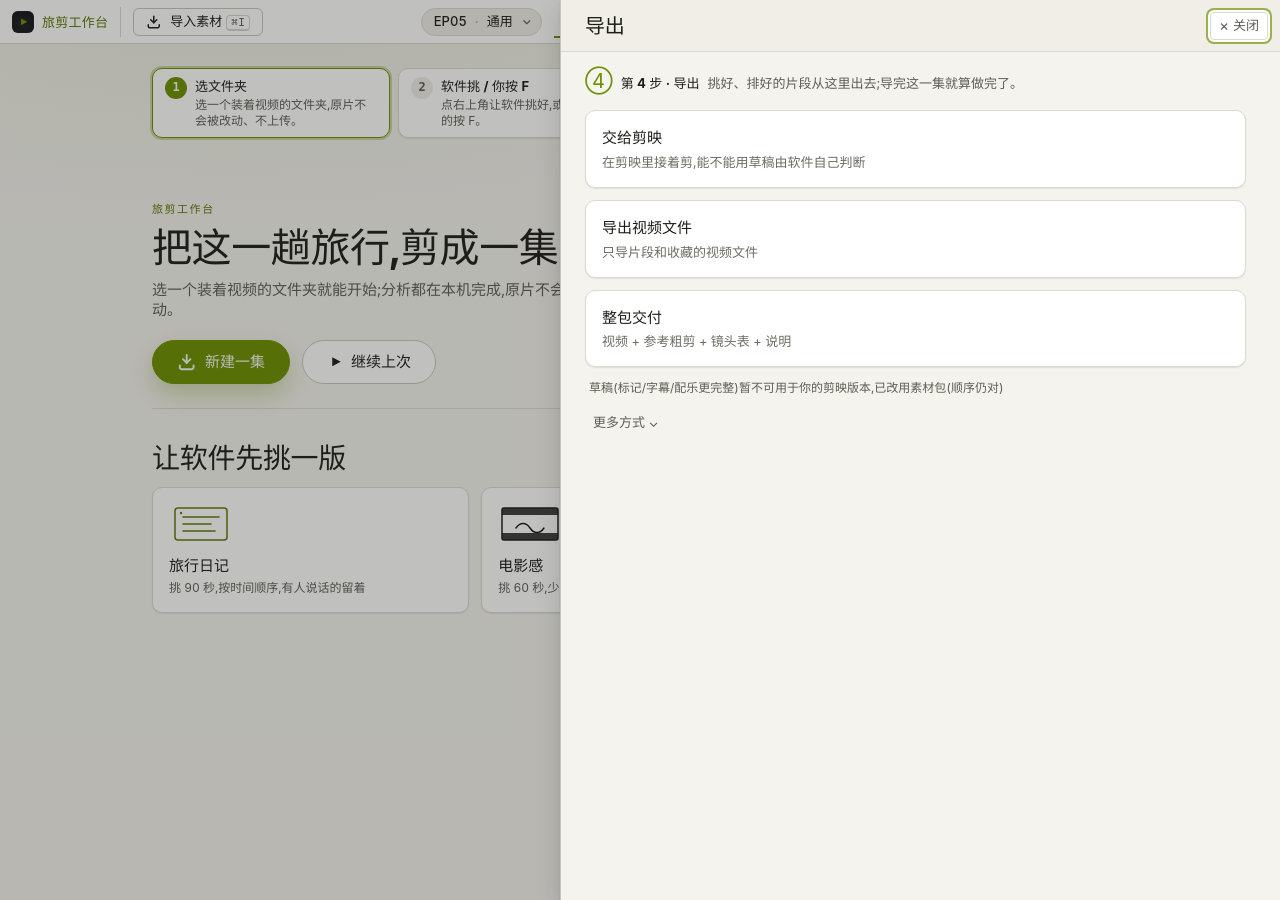
it: 交付抽屉 · 剪映素材包(R14 §9 B) › V14-03 待验证版本:切到「剪映草稿」后顶行一句话「先导出素材包,或试着生成」,不再说「先用完整交付包」
Click the button "更多方式 ⌄".
click(626, 422)  # box [585,409,667,435]
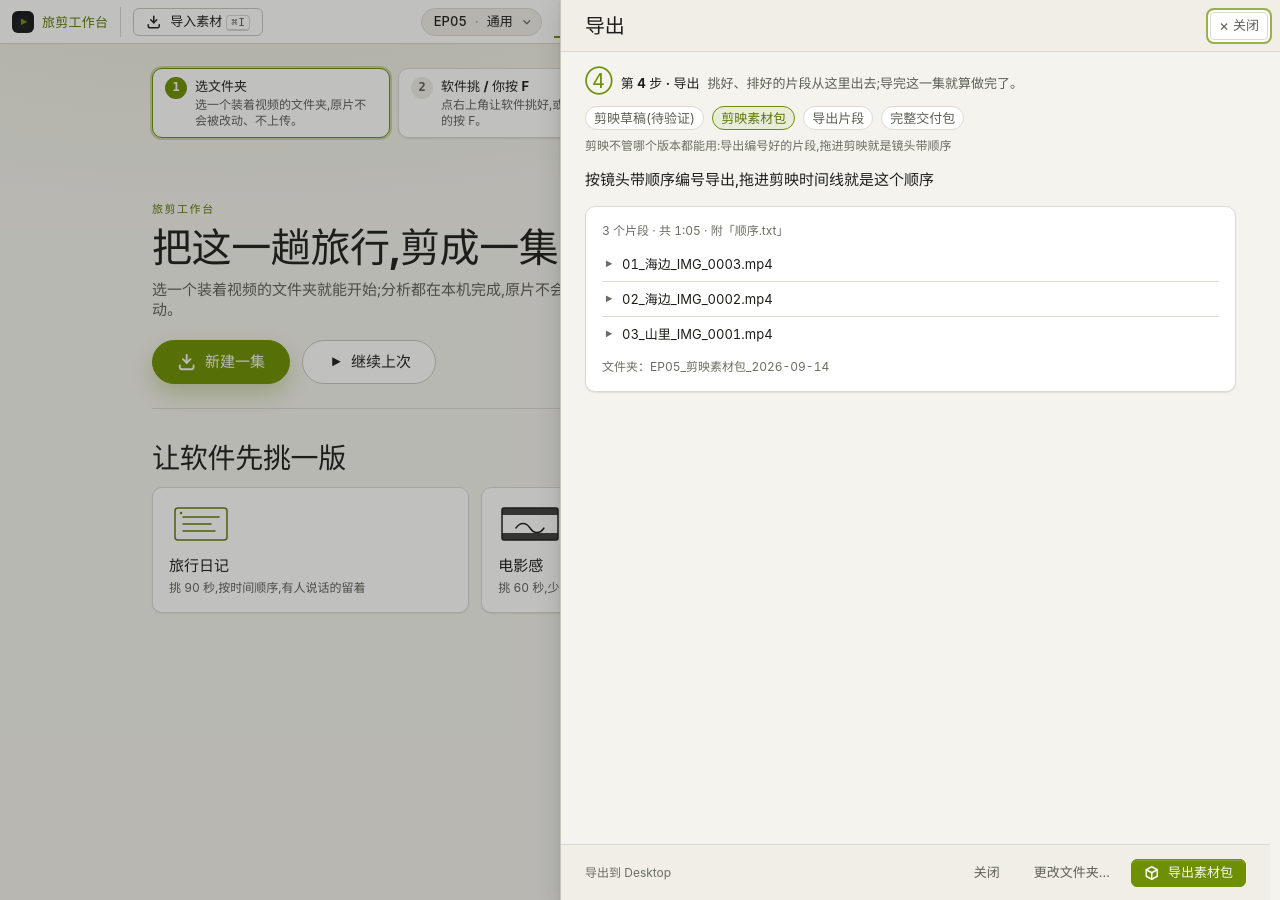
Expected: the button "剪映草稿(待验证)" is shown
Click the button "剪映草稿(待验证)".
click(645, 118)  # box [585,106,704,130]
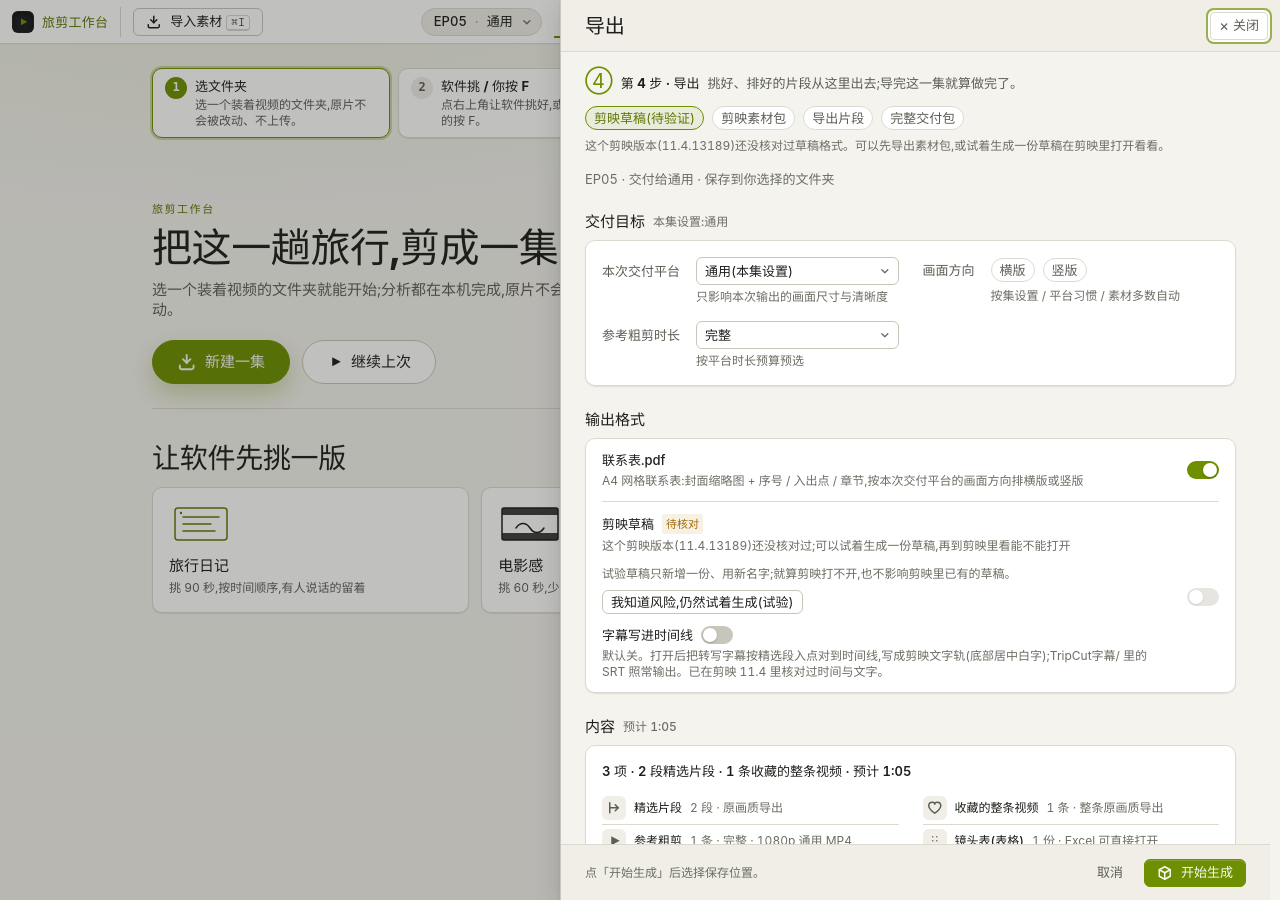
Expected: the message "这个剪映版本(11.4.13189)还没核对过草稿格式。可以先导出素材包,或试着生成一份草稿在剪映里打开看看。" is shown, [585,138,1246,154]
